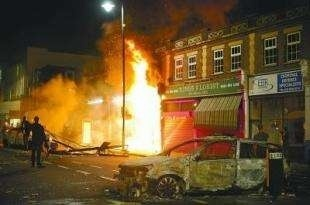fire: (120, 45, 163, 150)
